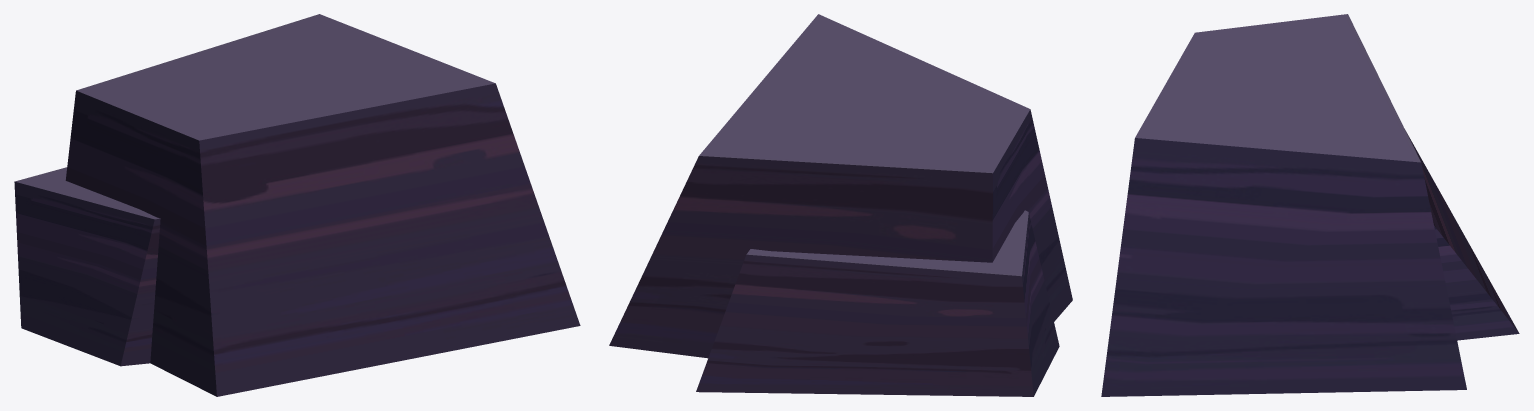
Rendered from Rock_01.FBX.
The picture shows the model from 3 angles, left to right: view 1: azimuth 30°, elevation 25°; view 2: azimuth 150°, elevation 25°; view 3: azimuth 270°, elevation 25°; orthographic projection. The views are drawn at different scales.
Visible parts, largest first — view 1: Rock_01; view 2: Rock_01; view 3: Rock_01.
Part boxes in pixels (x1,y1,x2,y2): Rock_01: (14,14,580,396); Rock_01: (609,14,1072,396); Rock_01: (1101,14,1519,396).
Size of the model in its own units: 60.51 by 33.65 by 55.76.
